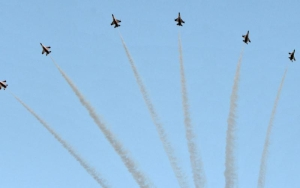flight: (38, 41, 52, 57), (109, 13, 122, 29), (174, 11, 186, 28), (241, 28, 251, 44), (287, 47, 297, 63), (1, 77, 8, 91)
